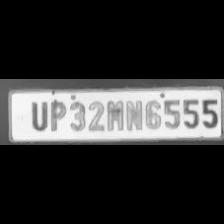2: (86, 97, 106, 132)
3: (66, 98, 86, 132)
5: (198, 96, 220, 128), (162, 96, 180, 128), (180, 96, 198, 128)
6: (142, 96, 160, 130)
M: (104, 97, 122, 132)
N: (124, 97, 142, 131)
P: (48, 98, 66, 132)
U: (26, 98, 48, 130)
